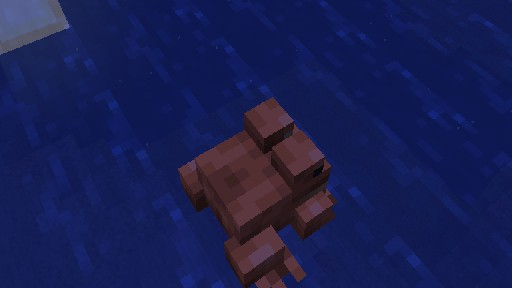frog: (177, 96, 337, 288)
